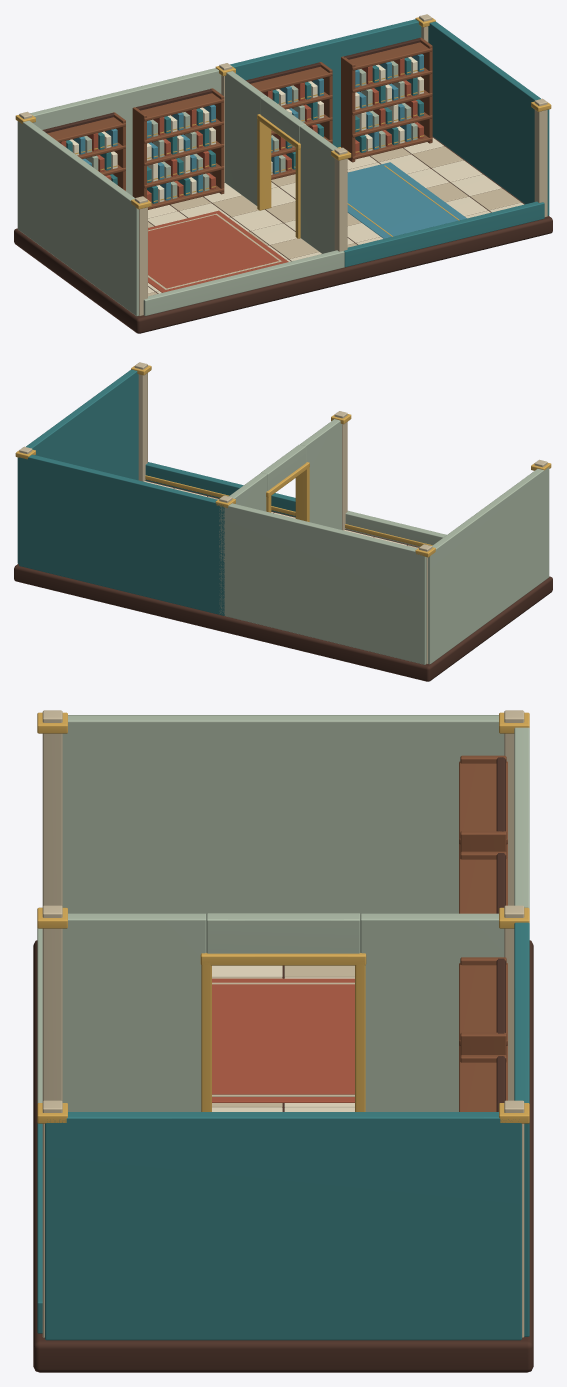
Rendered from environment.glb.
3 renders of one model, top to bottom at view 1: azimuth 30°, elevation 25°; view 2: azimuth 150°, elevation 25°; view 3: azimuth 270°, elevation 25°, orthographic. The views are drawn at different scales.
Parts seen in each view (by area): view 1: west_wall, east_wall, foundation, west_rug_field, east_runner, back_east, back_west, divider_front, front_west, front_east, divider_back, pillar_6_-3 (+42 smaller); view 2: back_west, back_east, west_wall, foundation, east_wall, divider_front, front_east, front_west, pillar_6_-3, door_lintel, divider_back, brass_edge_-3.0 (+2 smaller); view 3: east_wall, west_wall, divider_front, divider_back, foundation, west_rug_field, door_lintel, back_east, pillar_0_-3, pillar_-6_-3, back_west, shelf_-4.6_4 (+18 smaller).
Part boxes in pixels (x1=…): west_wall: x1=17, y1=120, x2=138, y2=316; east_wall: x1=428, y1=21, x2=549, y2=215; foundation: x1=14, y1=137, x2=552, y2=333; west_rug_field: x1=148, y1=215, x2=278, y2=288; east_runner: x1=347, y1=162, x2=466, y2=238; back_east: x1=230, y1=19, x2=421, y2=147; back_west: x1=30, y1=68, x2=221, y2=195; divider_front: x1=299, y1=125, x2=337, y2=253; front_west: x1=143, y1=250, x2=344, y2=315; front_east: x1=344, y1=201, x2=544, y2=267; divider_back: x1=225, y1=71, x2=266, y2=205; pillar_6_-3: x1=534, y1=98, x2=547, y2=217; back_west: x1=219, y1=503, x2=426, y2=664; back_east: x1=19, y1=454, x2=224, y2=615; west_wall: x1=428, y1=467, x2=549, y2=664; foundation: x1=14, y1=480, x2=552, y2=681; east_wall: x1=17, y1=369, x2=138, y2=563; divider_front: x1=300, y1=419, x2=341, y2=529; front_east: x1=145, y1=462, x2=295, y2=516; front_west: x1=345, y1=510, x2=446, y2=547; pillar_6_-3: x1=134, y1=362, x2=147, y2=481; door_lintel: x1=261, y1=444, x2=305, y2=490; divider_back: x1=229, y1=473, x2=267, y2=511; brass_edge_-3.0: x1=145, y1=475, x2=432, y2=546; east_wall: x1=45, y1=1112, x2=521, y2=1340; west_wall: x1=62, y1=715, x2=504, y2=914; divider_front: x1=62, y1=913, x2=206, y2=1111; divider_back: x1=360, y1=913, x2=504, y2=1111; foundation: x1=33, y1=940, x2=533, y2=1372; west_rug_field: x1=212, y1=984, x2=354, y2=1094; door_lintel: x1=206, y1=913, x2=360, y2=953; back_east: x1=514, y1=922, x2=529, y2=1336; pillar_0_-3: x1=42, y1=905, x2=62, y2=1101; pillar_-6_-3: x1=42, y1=710, x2=62, y2=906; back_west: x1=514, y1=727, x2=529, y2=908; shelf_-4.6_4: x1=459, y1=761, x2=507, y2=844.
Bounding box in the file's own units: 12.5 × 3.76 × 6.5.
